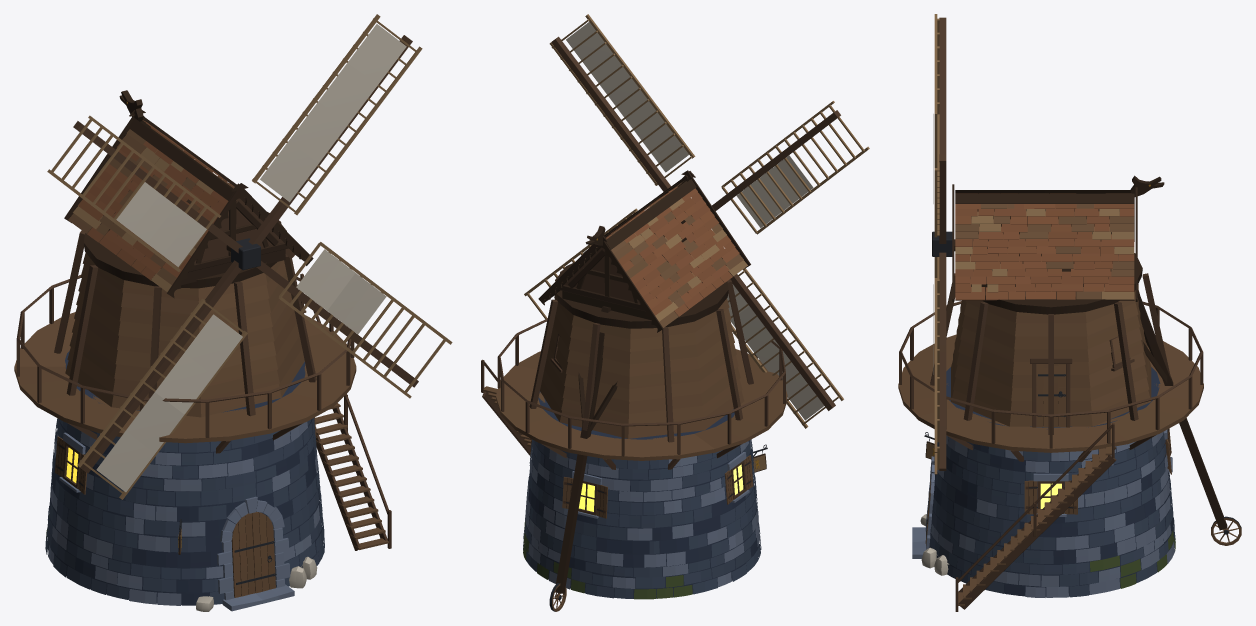
Rendered from mill.glb.
The picture shows the model from 3 angles, left to right: view 1: azimuth 30°, elevation 25°; view 2: azimuth 150°, elevation 25°; view 3: azimuth 270°, elevation 25°; orthographic projection. The views are drawn at different scales.
Parts seen in each view (by area): view 1: isl_mill; view 2: isl_mill; view 3: isl_mill.
Boxes of the visible parts, <box> form: isl_mill: <box>14,14,452,611</box>; isl_mill: <box>481,14,869,611</box>; isl_mill: <box>898,14,1241,611</box>.
Size of the model in its own units: 11.72 by 15.21 by 9.66.
